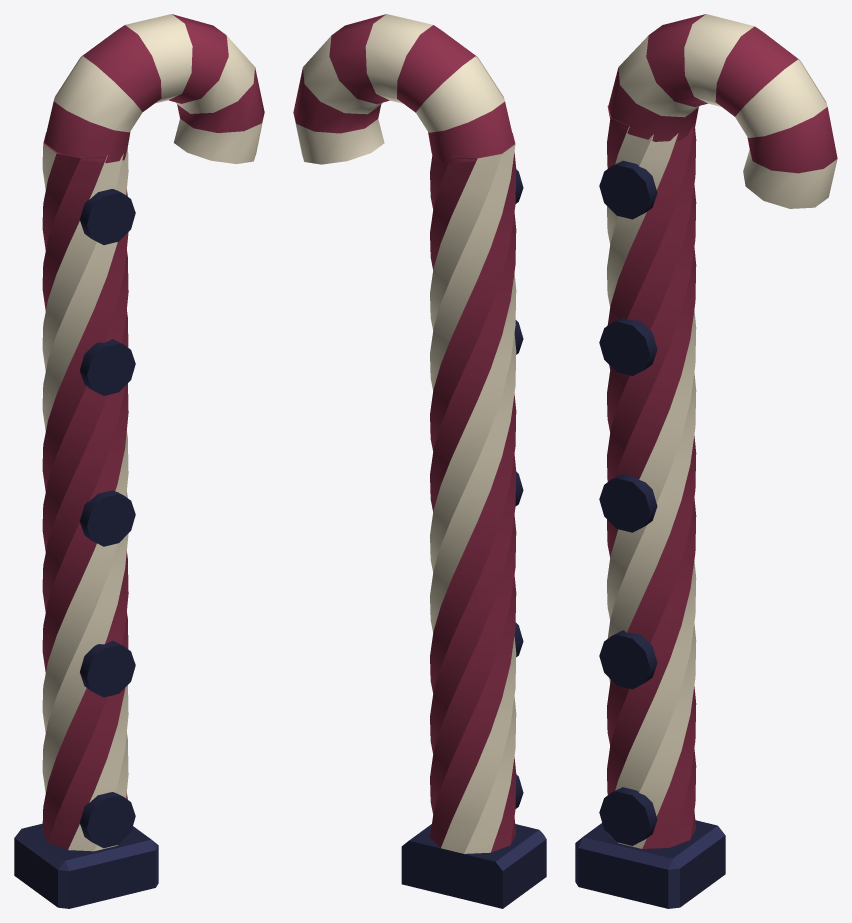
The model's file is LaserEmitter_CandyCane.fbx.
3 views of the same model, side by side, from view 1: azimuth 30°, elevation 25°; view 2: azimuth 150°, elevation 25°; view 3: azimuth 330°, elevation 25° (orthographic). The views are drawn at different scales.
Visible parts, largest first — view 1: LaserEmitter_CandyCane; view 2: LaserEmitter_CandyCane; view 3: LaserEmitter_CandyCane.
Part boxes in pixels (x1,y1,x2,y2): LaserEmitter_CandyCane: [14, 14, 264, 908]; LaserEmitter_CandyCane: [293, 14, 546, 908]; LaserEmitter_CandyCane: [575, 14, 837, 908].
Bounding box in the file's own units: 3.09 × 11.11 × 1.17.
1 material, 1 textured.
